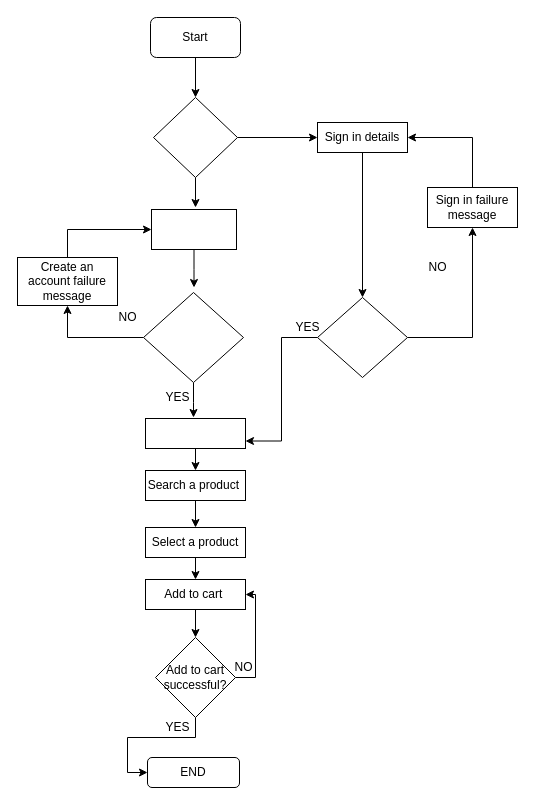
Image size: 535x805. Some labels were removed from this diagram. Each missing label, with the centre of its shape:
Create an account details: the point at 193,229
Create an account successful: the point at 193,337
Go to Home Page: the point at 195,433
Sign in or Create an account: the point at 195,137
Sign in successful?: the point at 362,337
